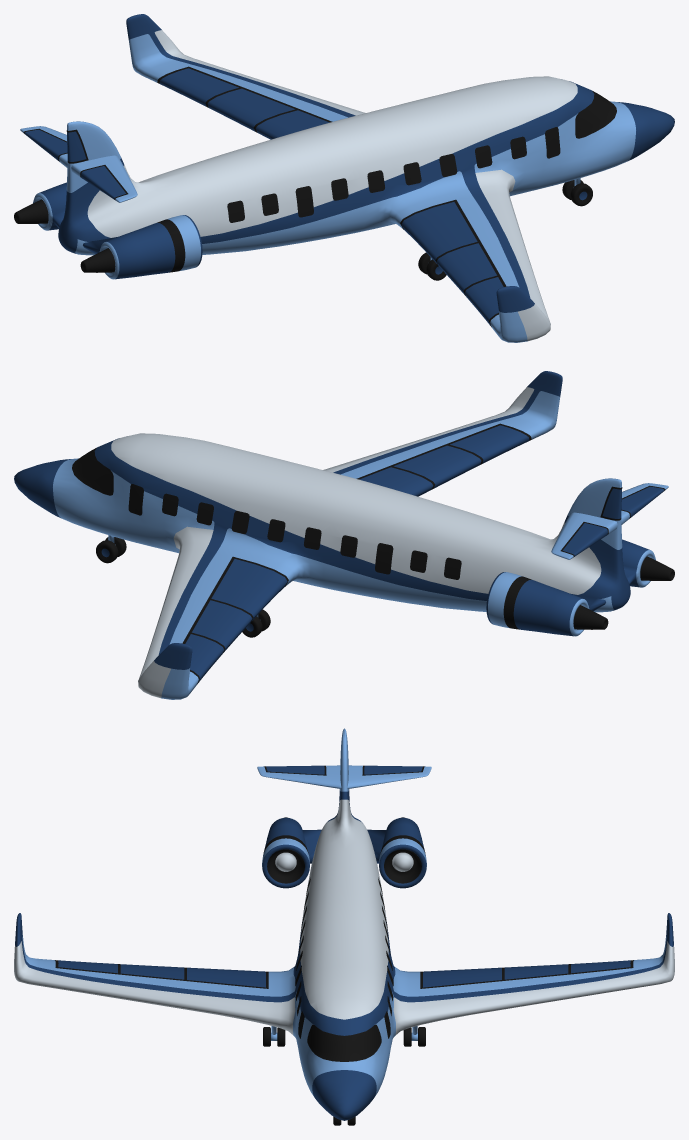
Rendered from 18_3_Airplane_AIRPORT_0.obj.
3 views of the same model, one above another, from view 1: azimuth 30°, elevation 25°; view 2: azimuth 150°, elevation 25°; view 3: azimuth 270°, elevation 25° (orthographic). The views are drawn at different scales.
Parts seen in each view (by area): view 1: 18.3.Airplane_AIRPORT_0; view 2: 18.3.Airplane_AIRPORT_0; view 3: 18.3.Airplane_AIRPORT_0.
Boxes of the visible parts, box(x1,y1,x2,y2) form: 18.3.Airplane_AIRPORT_0: box(14, 14, 674, 342); 18.3.Airplane_AIRPORT_0: box(14, 371, 674, 699); 18.3.Airplane_AIRPORT_0: box(14, 728, 674, 1125).
Size of the model in its own units: 55.8 by 17.36 by 58.31.
1 material, 1 textured.
